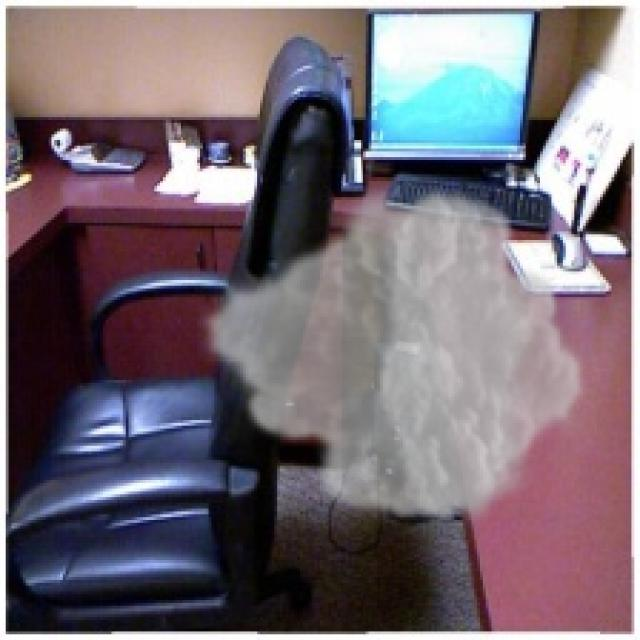smoke: (197, 180, 589, 531)
